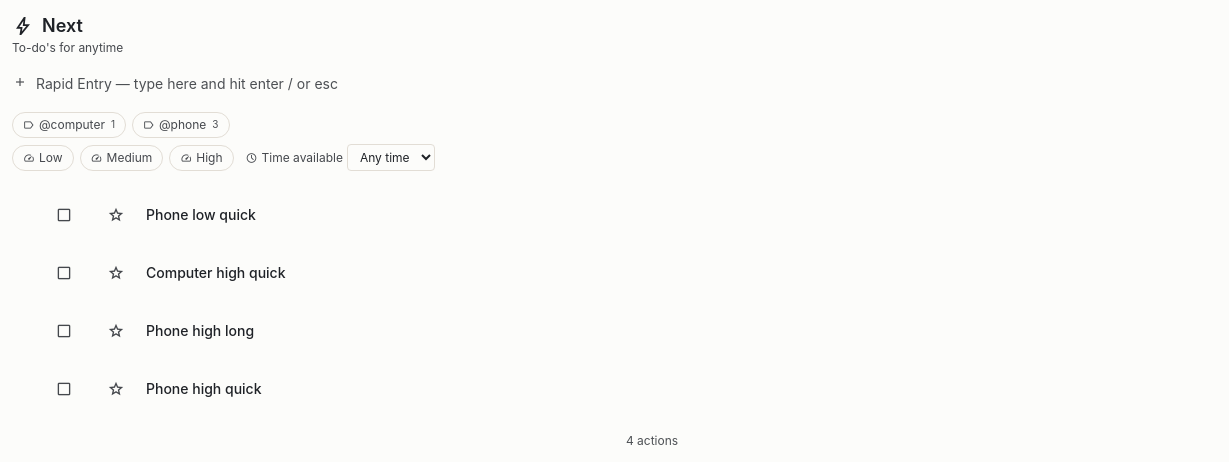
Test: ActionList › combined context + energy + time filters work together
Note: Filter by @phone context
Click the checkbox labelled "@phone 3": (181, 125) [132,112,230,138]
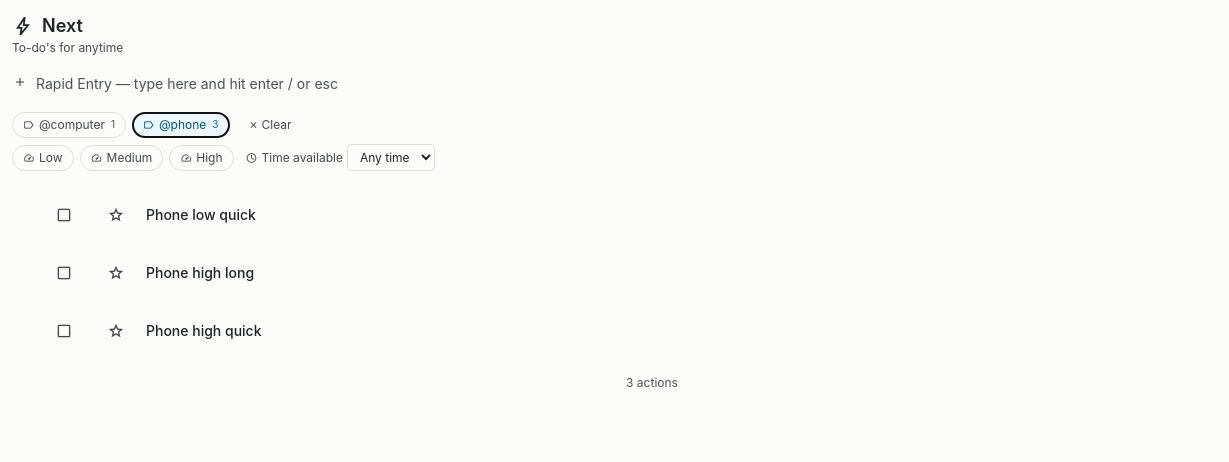
Note: Filter by high energy
Click the radio button labelled "high": (201, 158) [169,144,234,170]
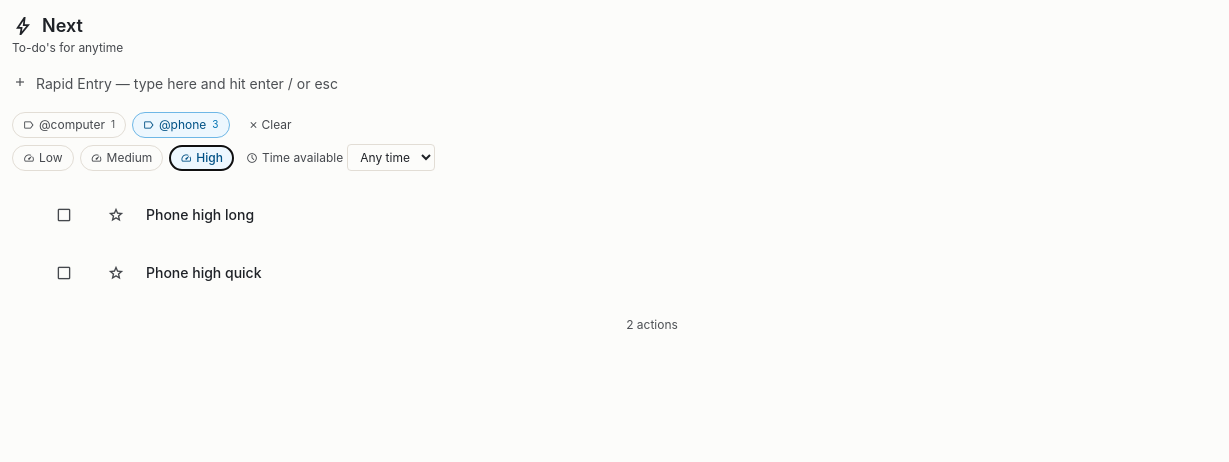
Note: Filter by 30min time
Select "30 min" in the dropdown labelled "Time available": (391, 158) [347,144,435,171]
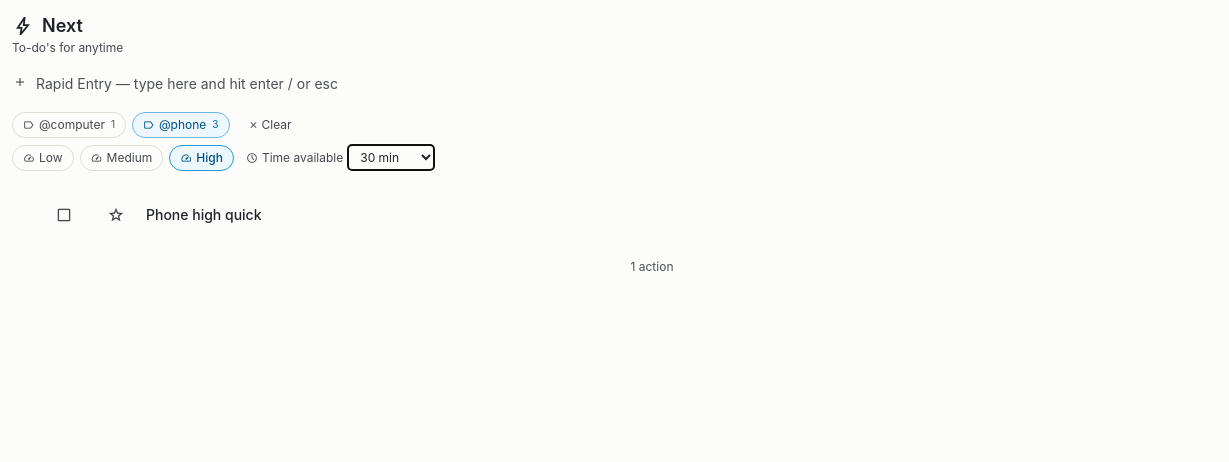
Expected: the button "Phone high quick" is shown, [146,205,1212,225]
Expected: the button "Phone high long" is gone
